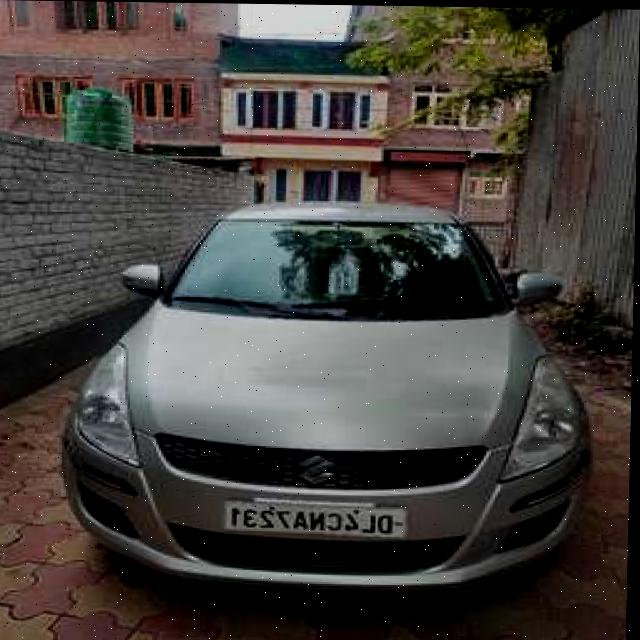plate: (227, 501, 408, 534)
